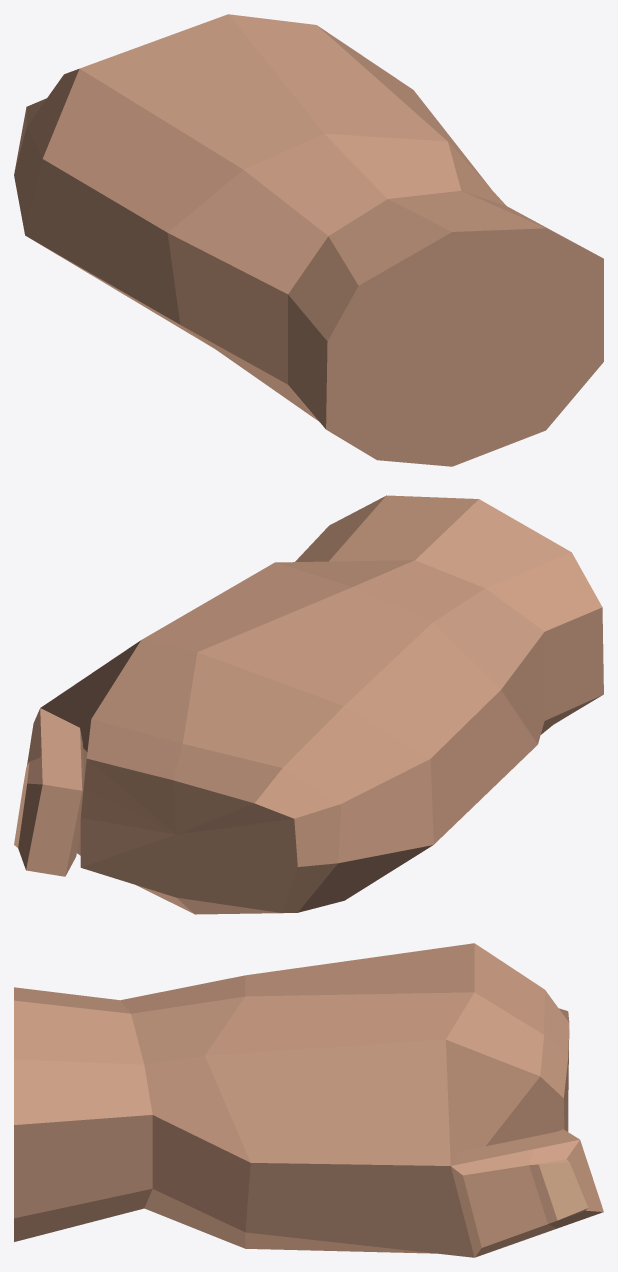
The model's file is ShortLeftHand.fbx.
3 renders of one model, top to bottom at view 1: azimuth 30°, elevation 25°; view 2: azimuth 150°, elevation 25°; view 3: azimuth 270°, elevation 25°, orthographic. The views are drawn at different scales.
Parts seen in each view (by area): view 1: Circle.064; view 2: Circle.064; view 3: Circle.064.
Boxes of the visible parts, x1,y1,x2,y2 form: Circle.064: [14, 14, 603, 466]; Circle.064: [14, 495, 603, 914]; Circle.064: [14, 943, 603, 1257].
Bounding box in the file's own units: 231 × 144 × 328.
